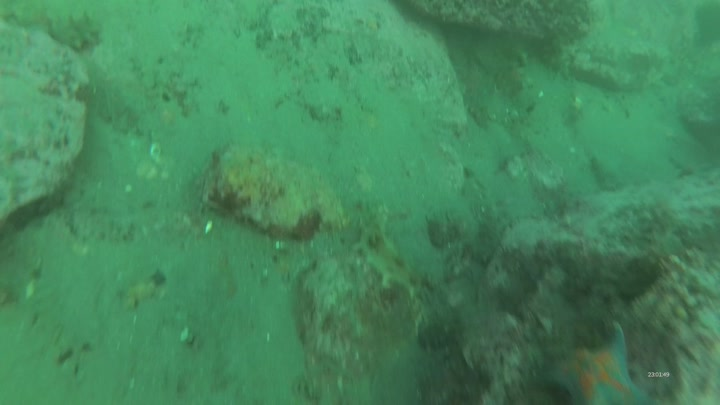starfish: (548, 319, 653, 405)
